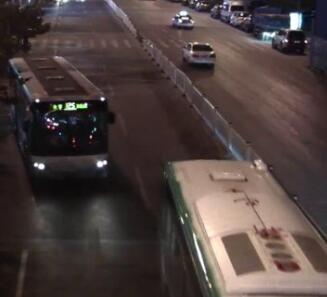bus: (154, 154, 323, 293), (5, 55, 116, 192)
car: (252, 4, 287, 38), (270, 26, 308, 54), (181, 41, 216, 66), (170, 10, 194, 31), (220, 1, 240, 24), (229, 9, 250, 26), (210, 4, 224, 20), (195, 0, 208, 12)
